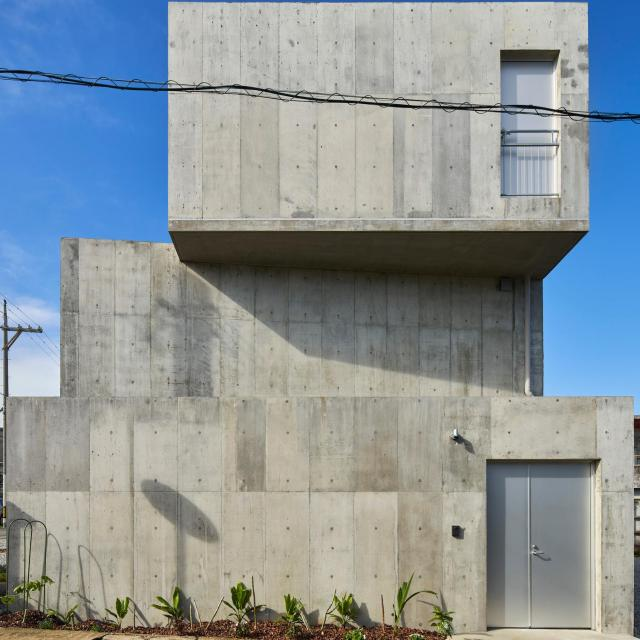door: (486, 460, 589, 630)
railing: (499, 131, 554, 195)
window: (502, 61, 554, 133)
